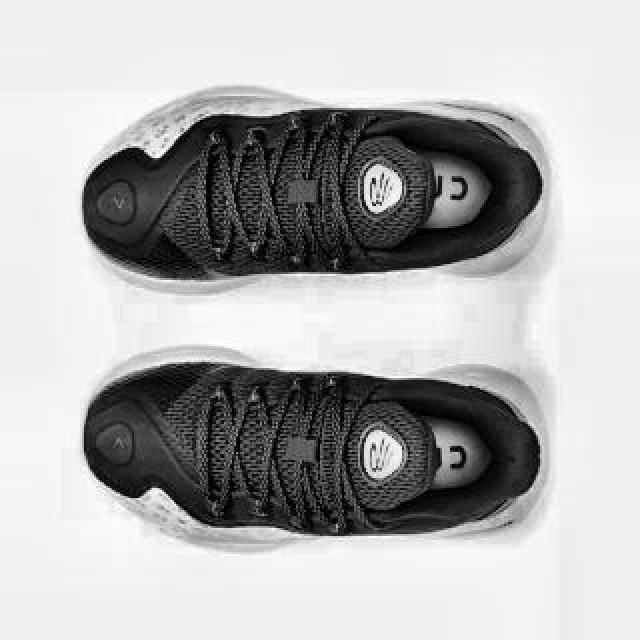shoe: (78, 81, 554, 297), (82, 341, 550, 543)
